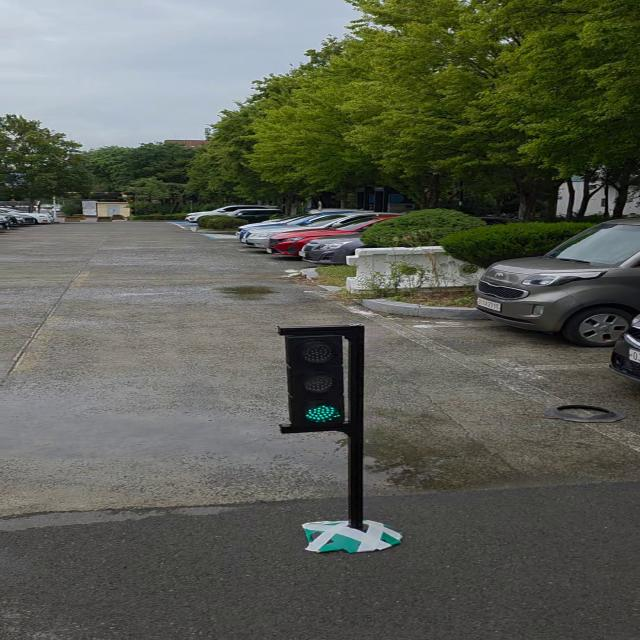green: (287, 331, 358, 433)
